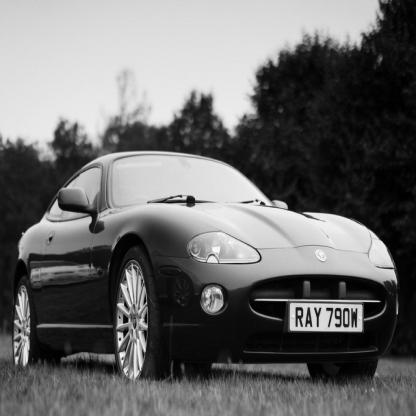Car: (12, 150, 400, 384)
